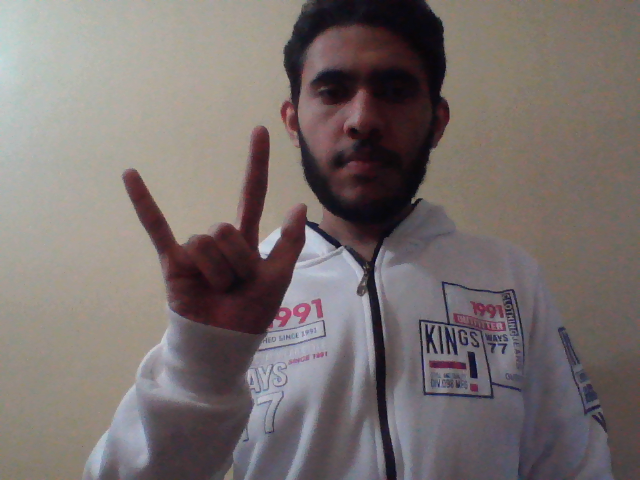iloveyou: (115, 120, 309, 348)
